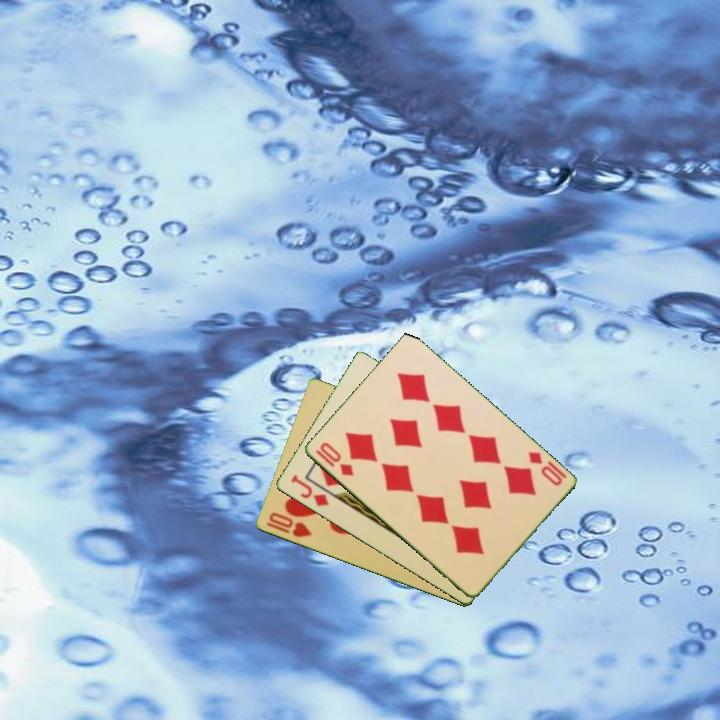10d: (311, 439, 357, 479), (524, 448, 565, 489)
10h: (265, 509, 314, 541)
Jd: (287, 471, 332, 509)
